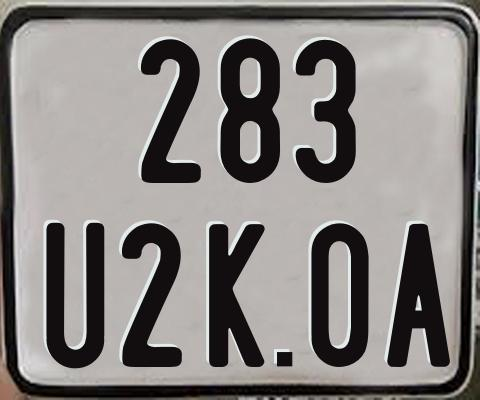0: (308, 221, 368, 365)
2: (120, 221, 182, 369), (141, 38, 201, 187)
3: (296, 39, 358, 186)
8: (220, 35, 283, 186)
A: (387, 222, 451, 366)
K: (207, 223, 263, 368)
U: (46, 221, 104, 371)
